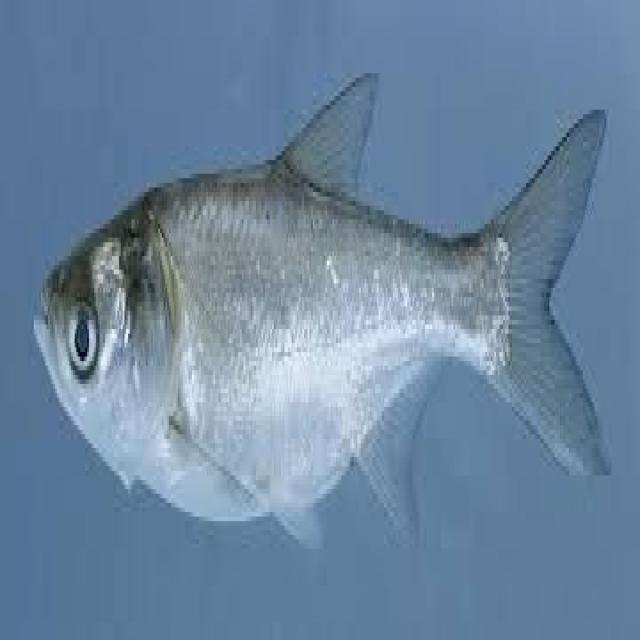Big-Head-Carp: (9, 24, 624, 616)
